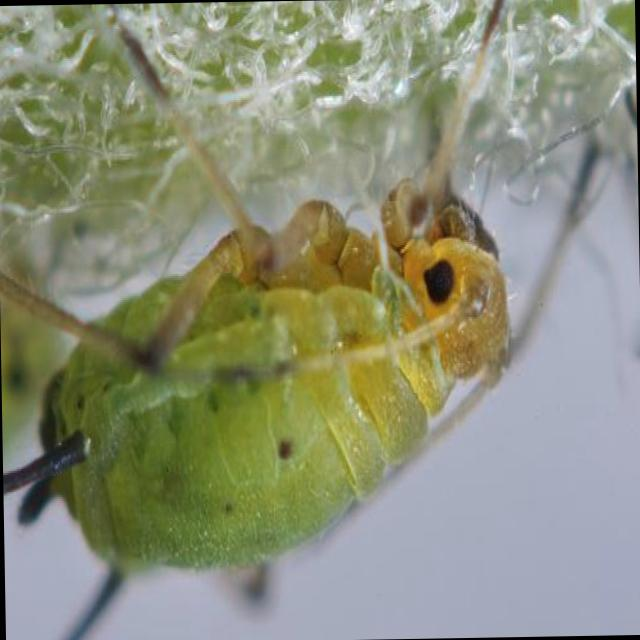Aphids: (7, 1, 621, 630)
